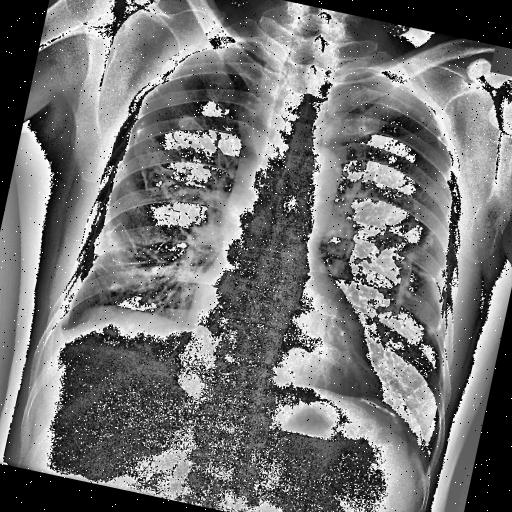0- Aortic enlargement: (278, 140, 346, 214)
10- Pleural effusion: (48, 308, 84, 350), (46, 317, 68, 351)
11- Pleural thickening: (348, 192, 472, 338), (355, 210, 466, 337), (118, 98, 213, 213), (48, 211, 127, 348), (112, 102, 206, 206), (334, 62, 383, 96), (354, 392, 406, 424), (48, 308, 84, 350), (354, 394, 400, 421), (46, 317, 68, 351), (434, 164, 456, 192)
13- Pulmonary fibrosis: (118, 98, 213, 213), (82, 210, 171, 303), (112, 248, 154, 272), (110, 217, 140, 248)
2- Calcification: (354, 394, 400, 421), (358, 394, 398, 419)
7- Lung Opacity: (355, 210, 466, 337), (118, 98, 213, 213), (434, 164, 456, 192)
8- Nodule-Mass: (304, 150, 448, 294), (100, 224, 165, 264), (110, 280, 122, 292), (150, 264, 159, 276)
9- Other lesion: (118, 98, 210, 209), (379, 250, 419, 320), (416, 261, 455, 332), (82, 300, 131, 330)
